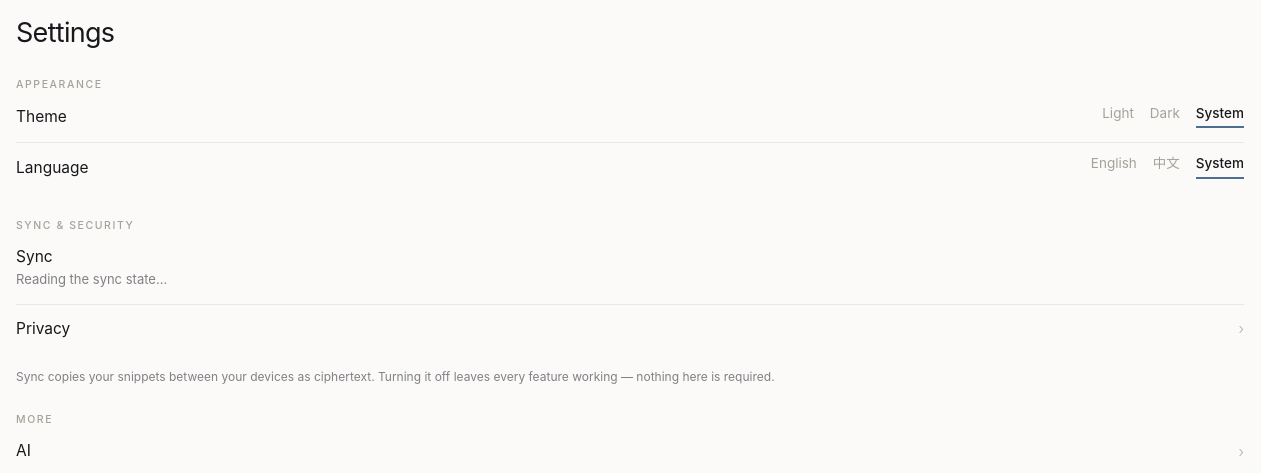
mobile Settings — Appearance › switches the whole UI language from the Language row
Click the button "中文".
click(1166, 168)  # box top-left (1153, 157), bottom-right (1180, 178)
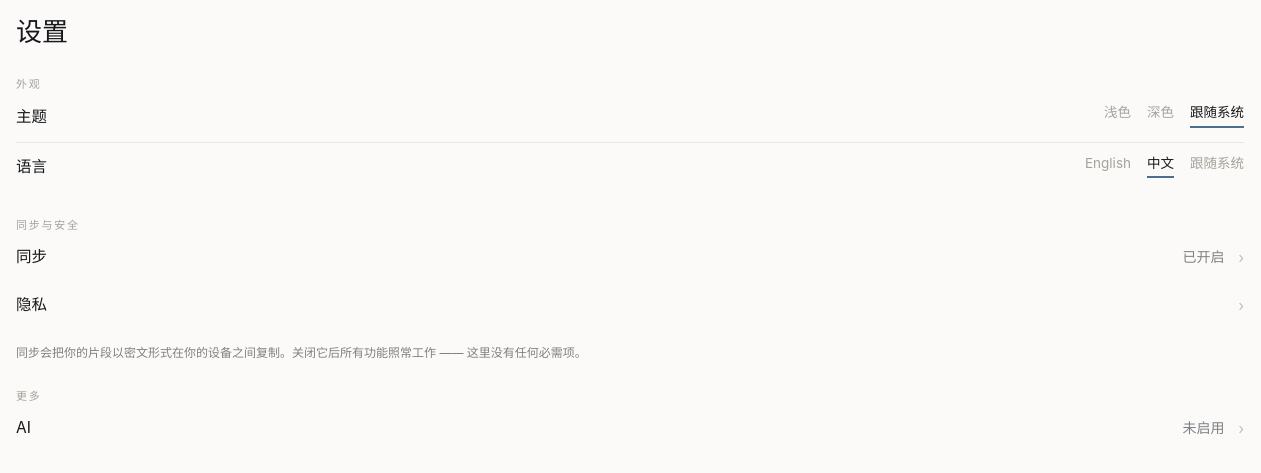
Check: the heading "设置" is shown, box top-left (16, 16), bottom-right (68, 47)
Check: the element named "语言" is shown, box top-left (1085, 156), bottom-right (1244, 178)
